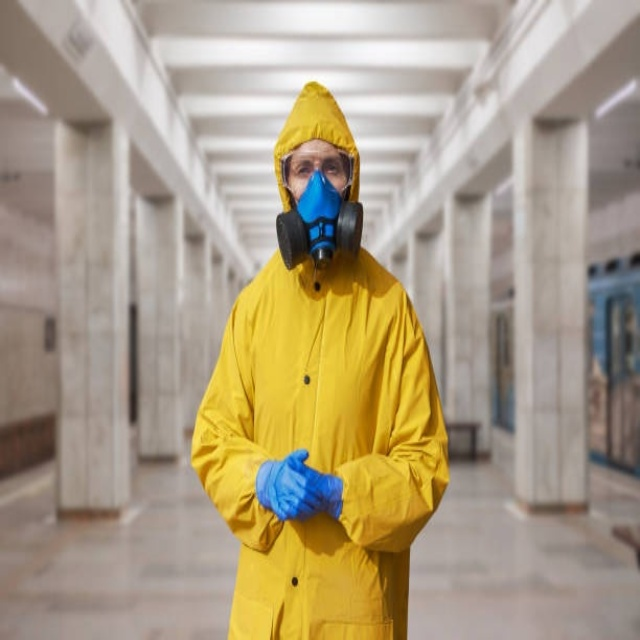Gafas: (279, 145, 357, 202)
Guantes: (257, 449, 341, 523)
Mascara: (296, 168, 342, 263)
